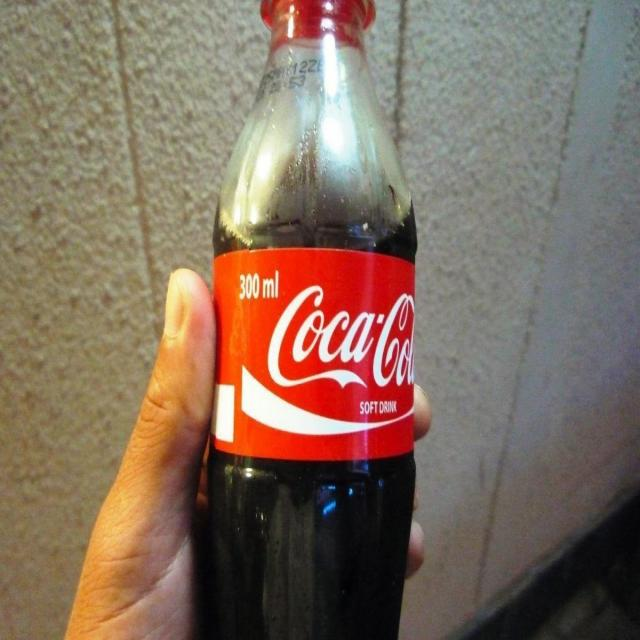bottle-plastic: (203, 0, 422, 638)
